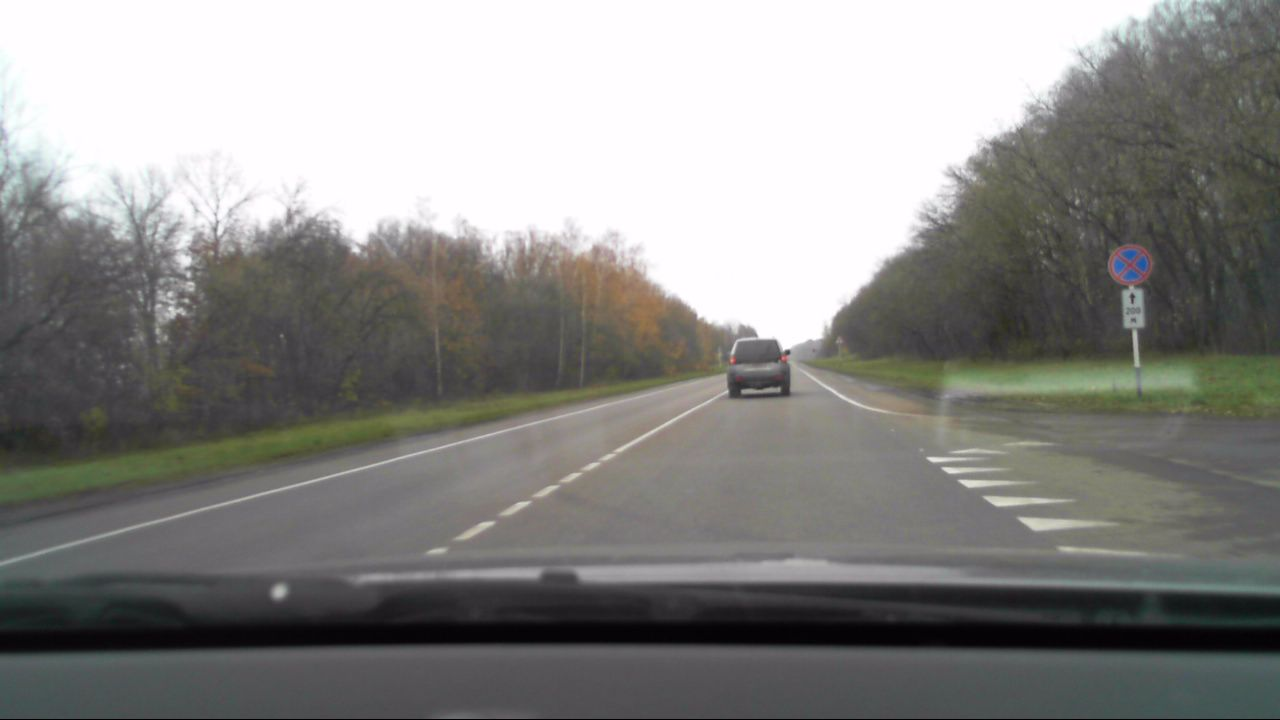No Parking: (1106, 244, 1153, 287)
